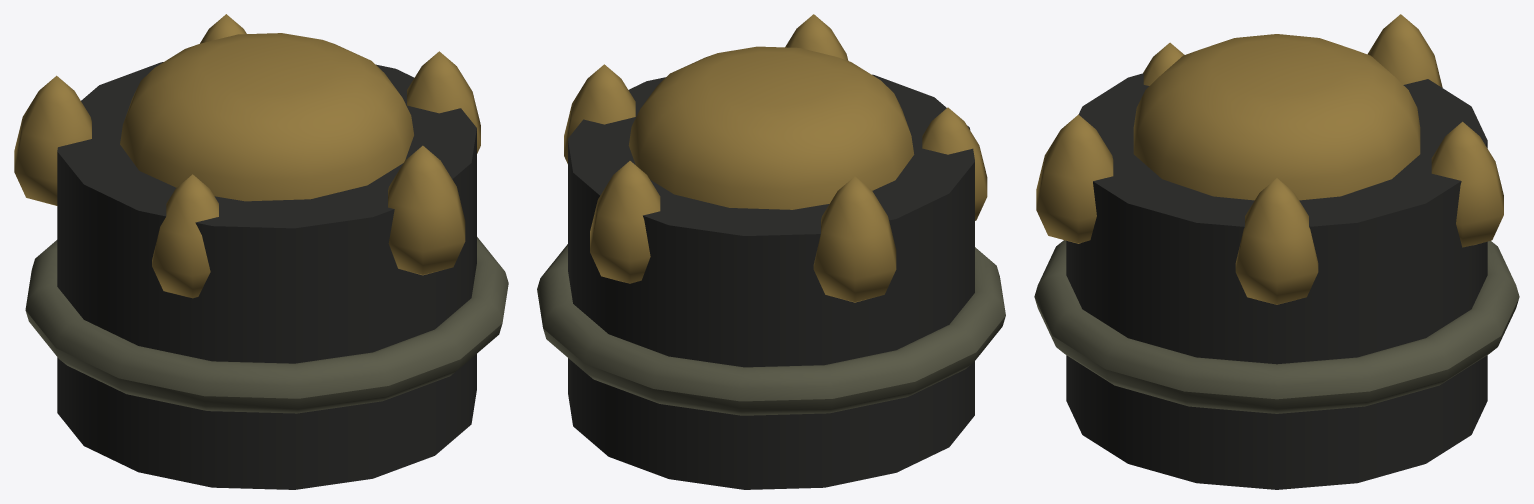
File: flame_mail.obj
3 views of the same model, side by side, from view 1: azimuth 30°, elevation 25°; view 2: azimuth 150°, elevation 25°; view 3: azimuth 270°, elevation 25° (orthographic). The views are drawn at different scales.
Visible parts, largest first — view 1: flame_mail; view 2: flame_mail; view 3: flame_mail.
Boxes of the visible parts, box(x1,y1,x2,y2) form: flame_mail: box(14, 14, 508, 489); flame_mail: box(537, 14, 1005, 489); flame_mail: box(1034, 14, 1519, 489).
Bounding box in the file's own units: 1.53 × 1.16 × 1.52.
